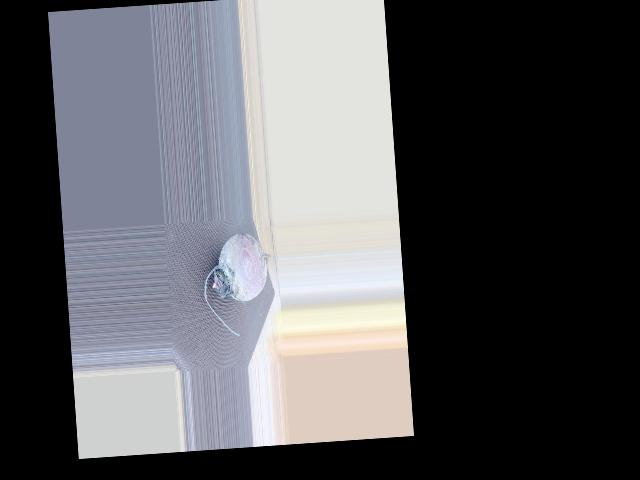beet: (200, 230, 282, 338)
